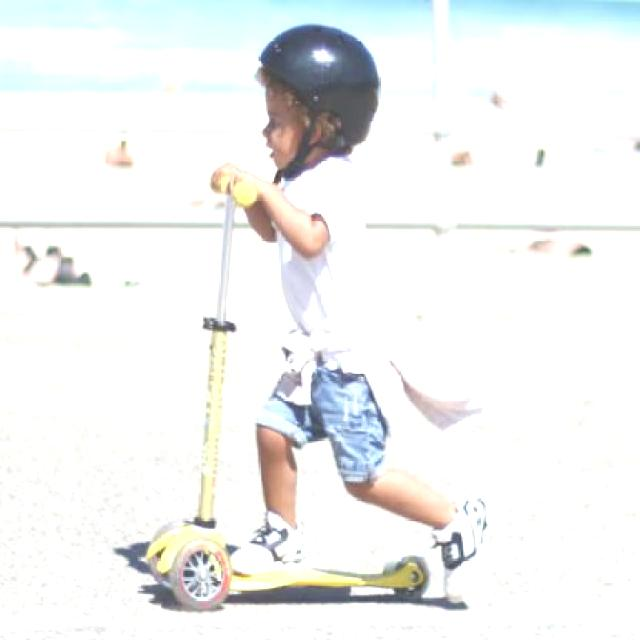With Helmet: (250, 16, 384, 184)
